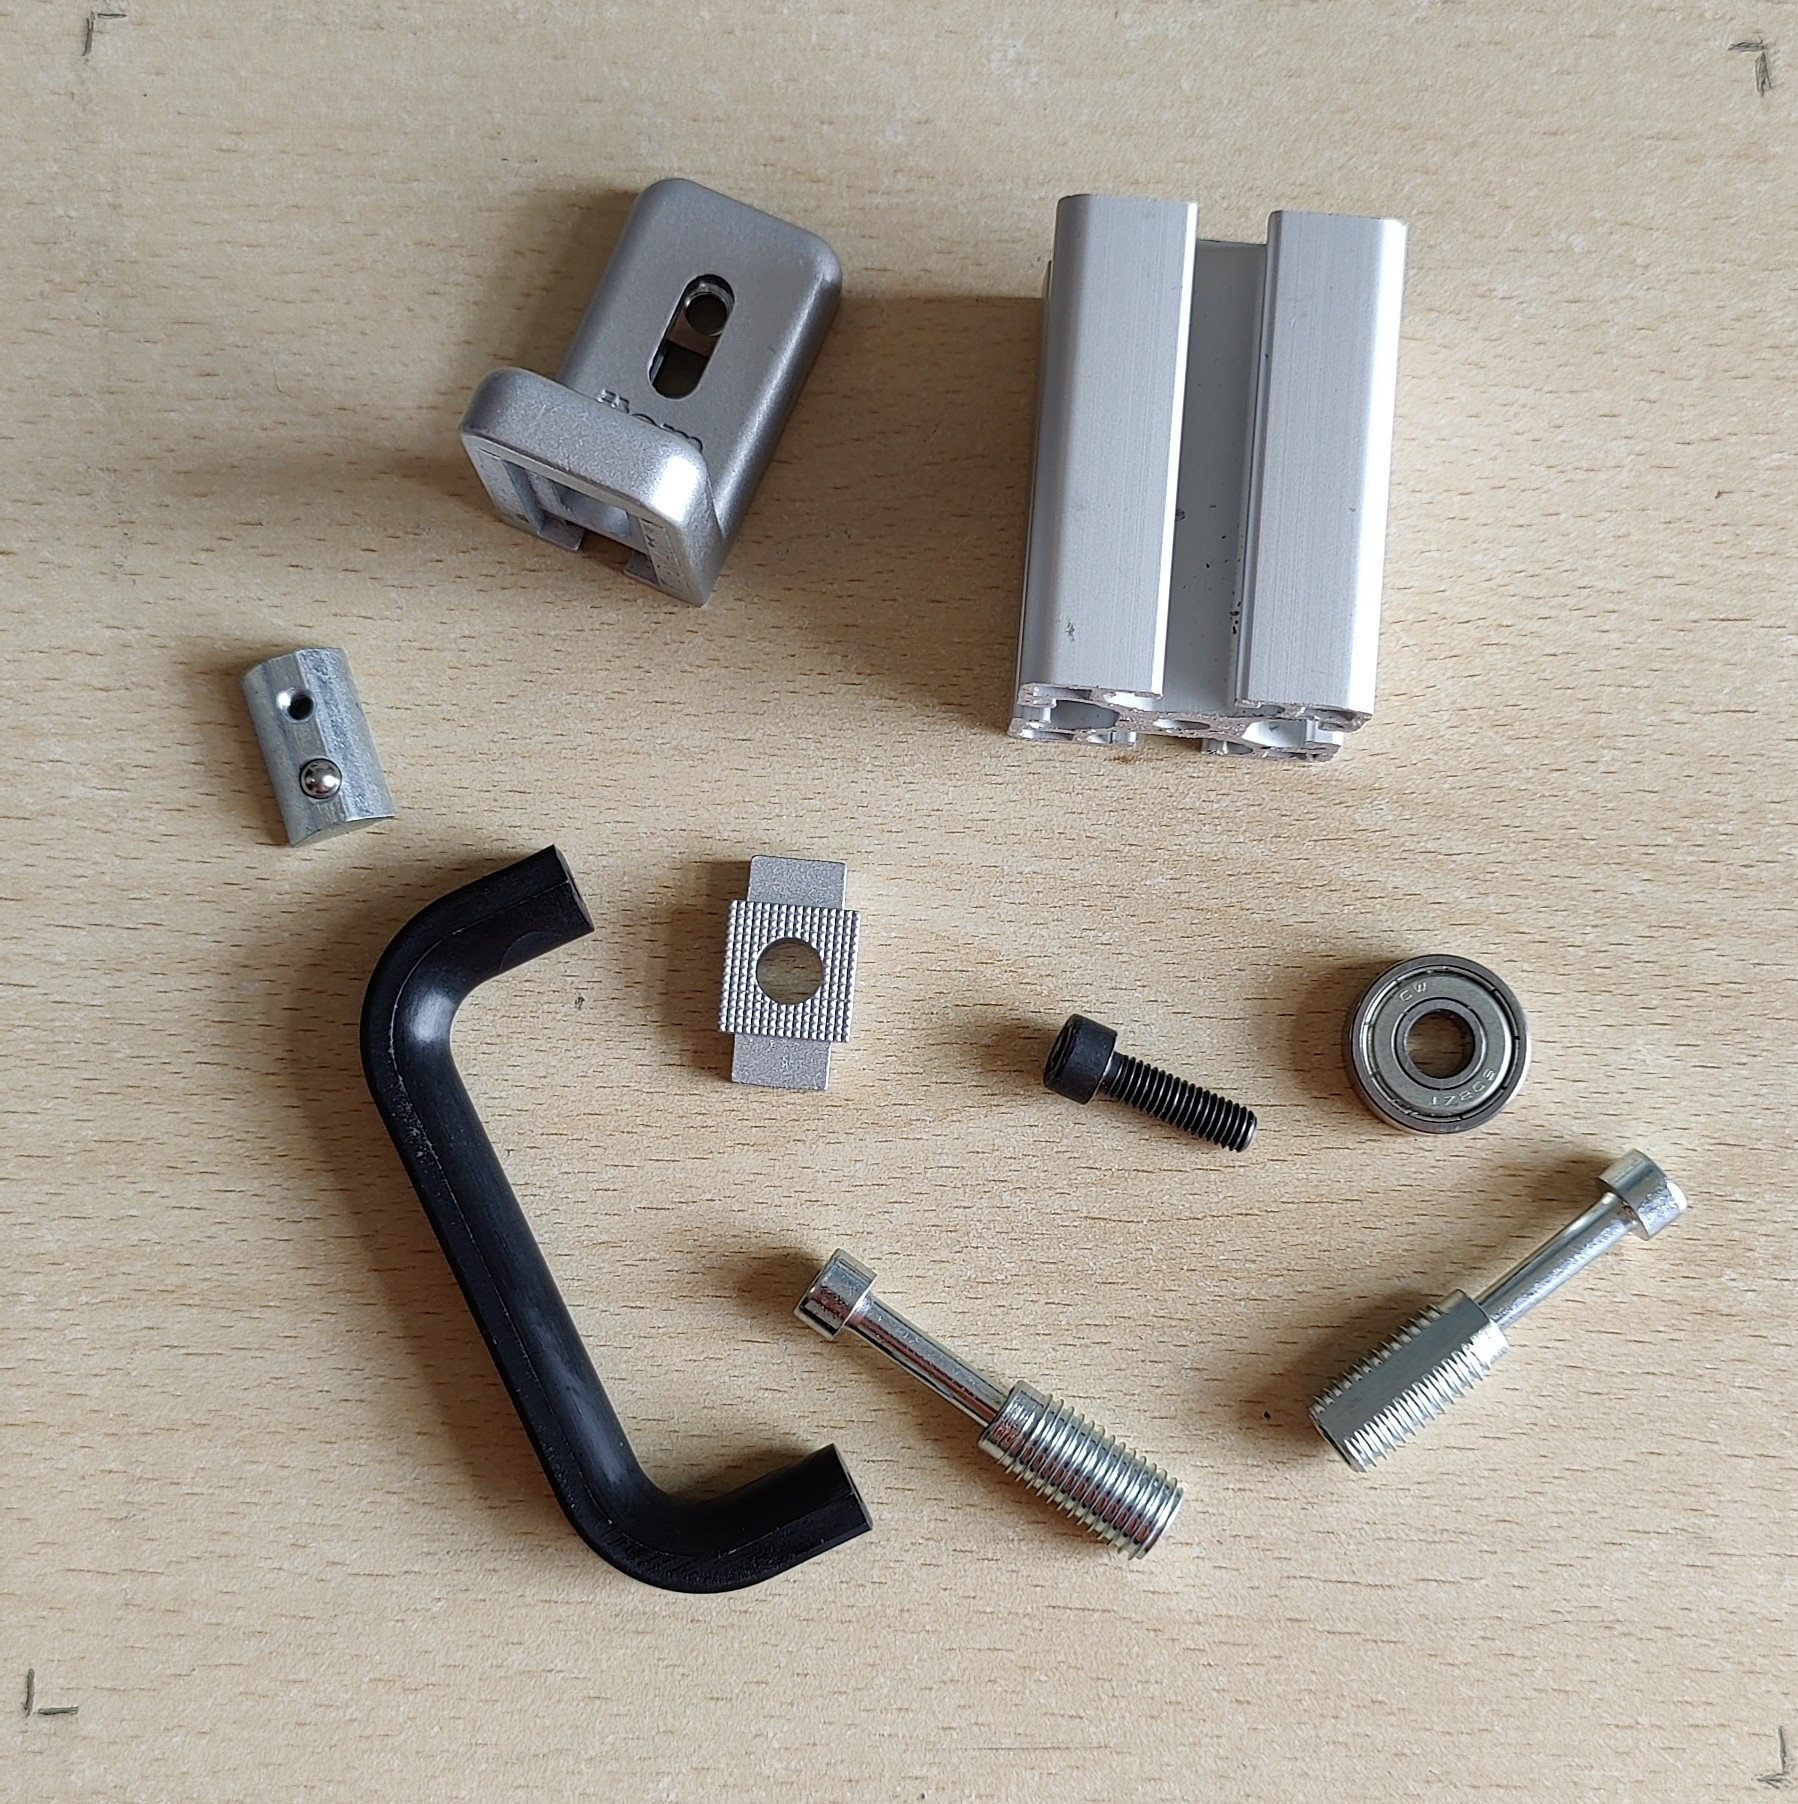Aluminium Extension: (999, 193, 1413, 769)
Ball Bearing: (1339, 953, 1528, 1137)
Multiwinkel: (456, 174, 845, 612)
Pull Handle: (356, 844, 876, 1597)
Shoulder Socket Head Cap Screw: (1304, 1147, 1688, 1475), (792, 1248, 1187, 1564)
Socket Head Cap Screw: (1037, 1011, 1261, 1157)
T Nut Square: (715, 851, 863, 1095)
T Spring Nut: (237, 645, 400, 851)
